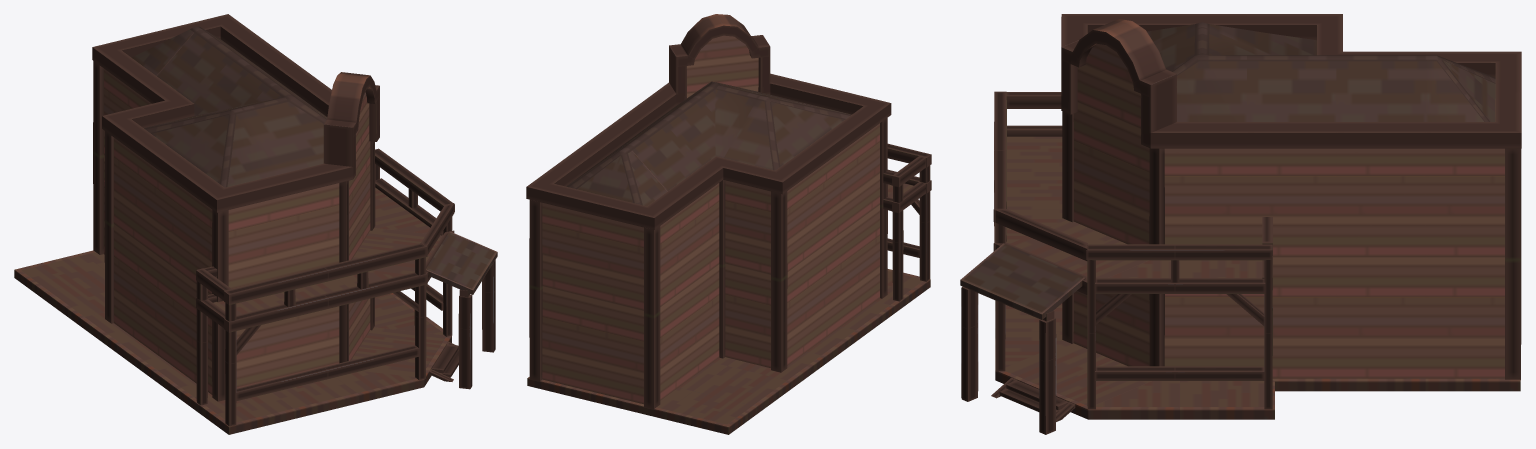
The model's file is house_v4_blank_ncl1_9.fbx.
3 renders of one model, left to right at view 1: azimuth 30°, elevation 25°; view 2: azimuth 150°, elevation 25°; view 3: azimuth 270°, elevation 25°, orthographic. The views are drawn at different scales.
Visible parts, largest first — view 1: house_v4_blank; view 2: house_v4_blank; view 3: house_v4_blank.
Boxes of the visible parts, <box> form: house_v4_blank: <box>14,14,497,434</box>; house_v4_blank: <box>526,14,931,434</box>; house_v4_blank: <box>960,14,1521,434</box>.
Bounding box in the file's own units: 912 × 842 × 1257.
